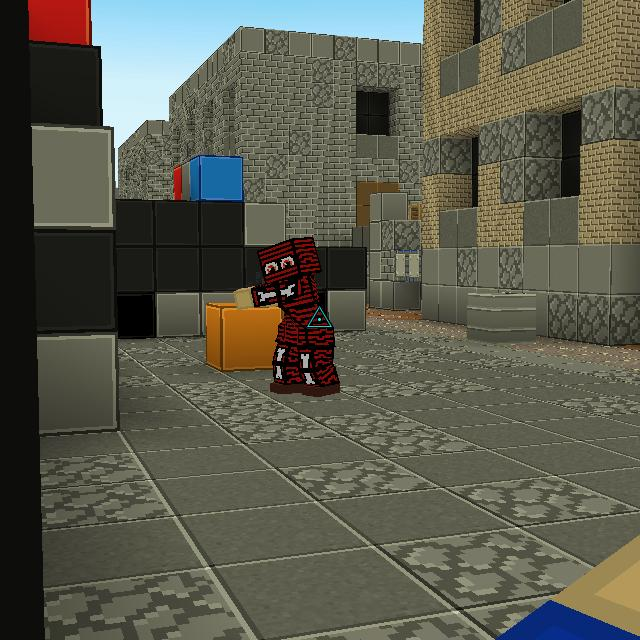enemy: (233, 232, 344, 399)
